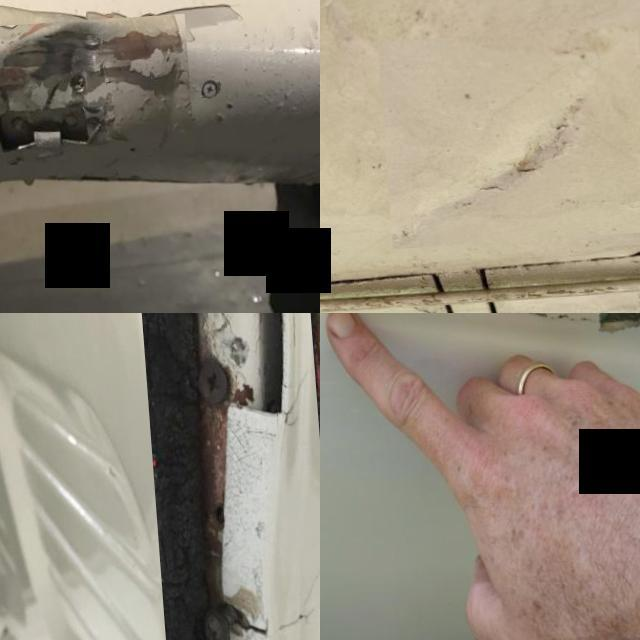Crack: (132, 313, 320, 640), (489, 313, 594, 331), (594, 313, 640, 342)
Dent: (374, 31, 640, 252), (0, 27, 184, 167)
